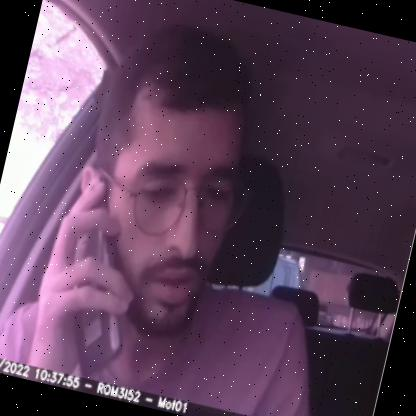phone: (39, 188, 159, 381)
